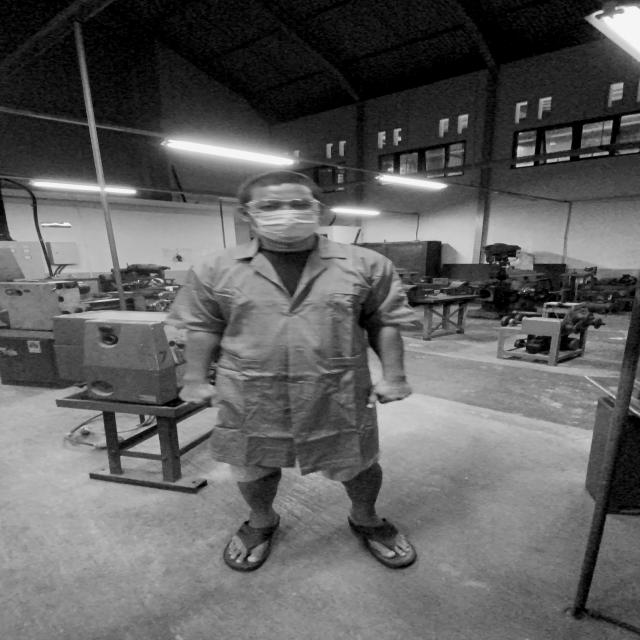face_mask: (242, 196, 328, 242)
glasses: (234, 196, 327, 213)
hand_glove: (359, 376, 419, 410), (171, 378, 224, 411)
head_nohelmet: (242, 169, 317, 195)
person: (164, 164, 458, 581)
